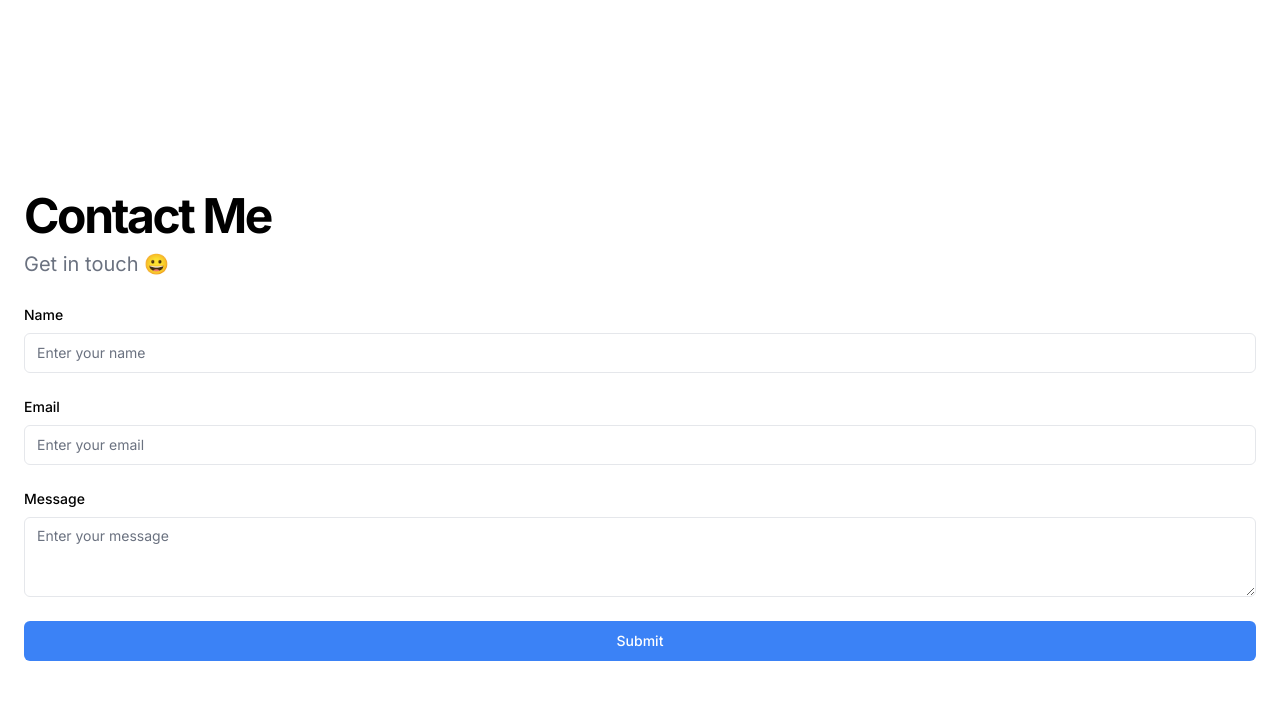
Test: ContactMe Component › submits the form and shows success dialog
In the field labelled "Name": (640,352) x1=24 y1=332 x2=1256 y2=372, type "John Doe"
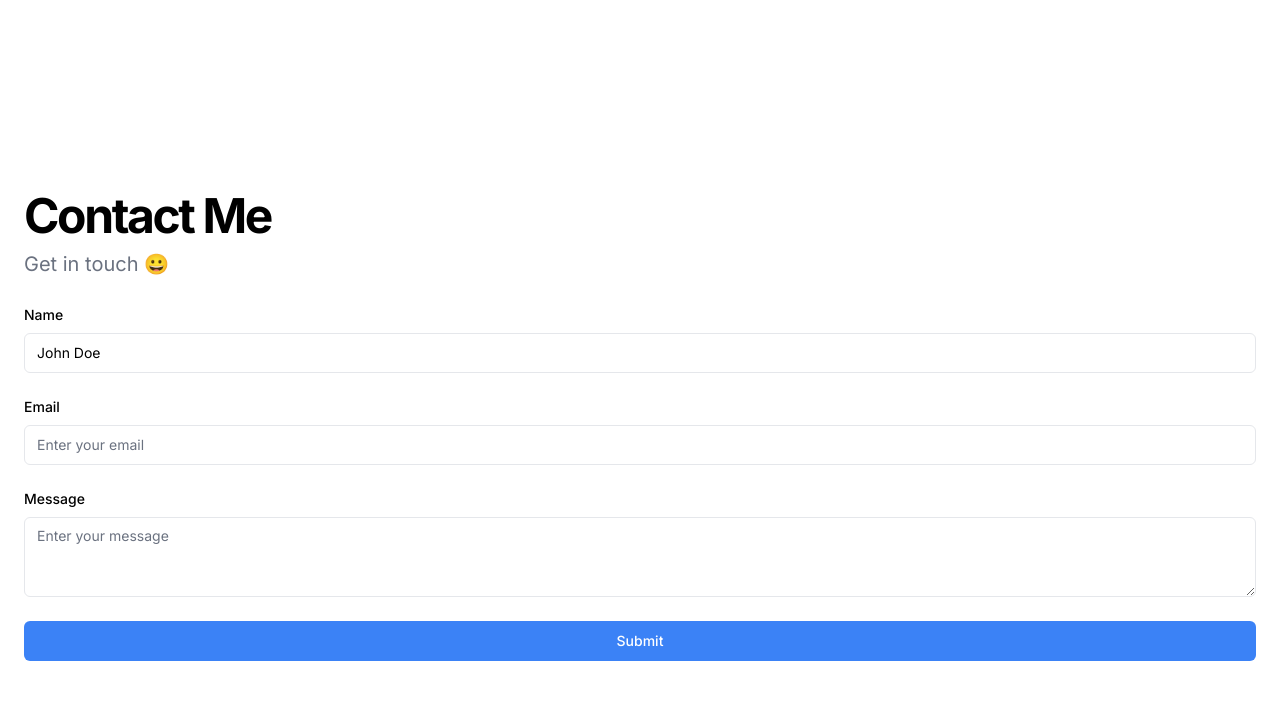
In the field labelled "Email": (640,444) x1=24 y1=424 x2=1256 y2=464, type "john@example.com"
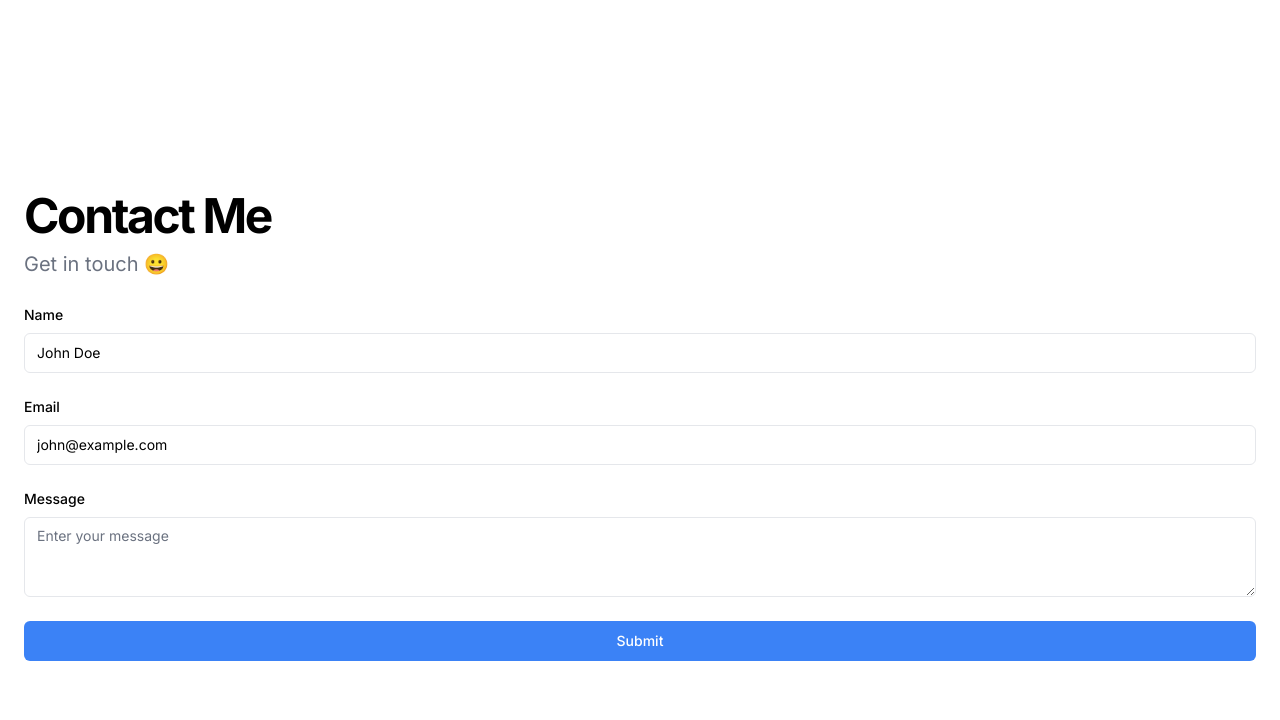
In the text box labelled "Message": (640,556) x1=24 y1=516 x2=1256 y2=596, type "Hello there!"
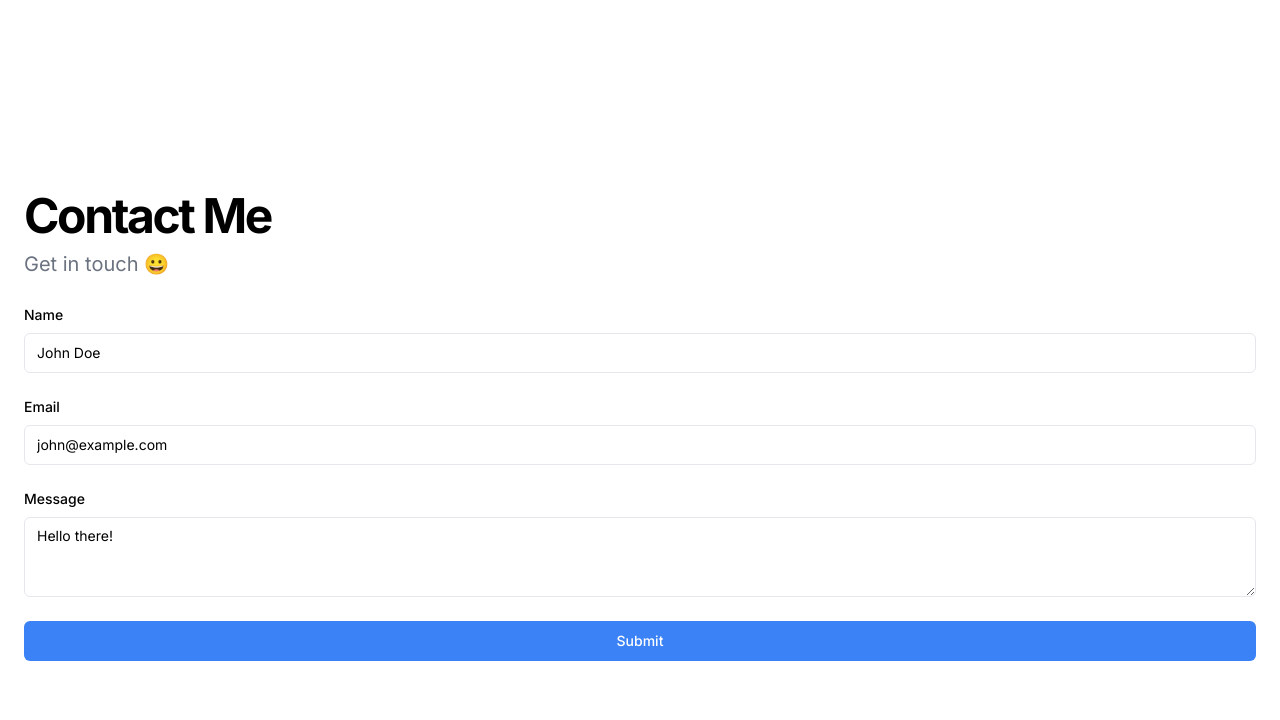
Click the button "Submit": (640,640) x1=24 y1=620 x2=1256 y2=660
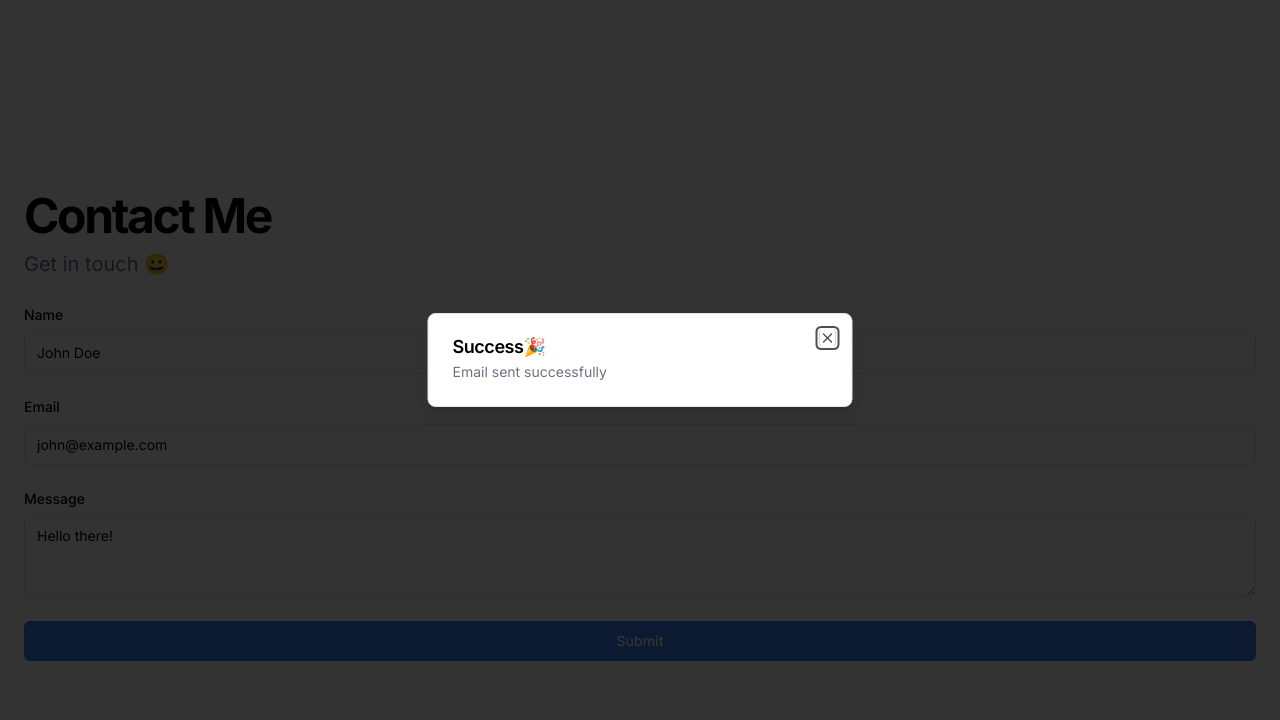
Expected: the heading "Success🎉" is shown, x1=452 y1=336 x2=546 y2=357
Expected: the text "Email sent successfully" is shown, x1=452 y1=363 x2=607 y2=380
